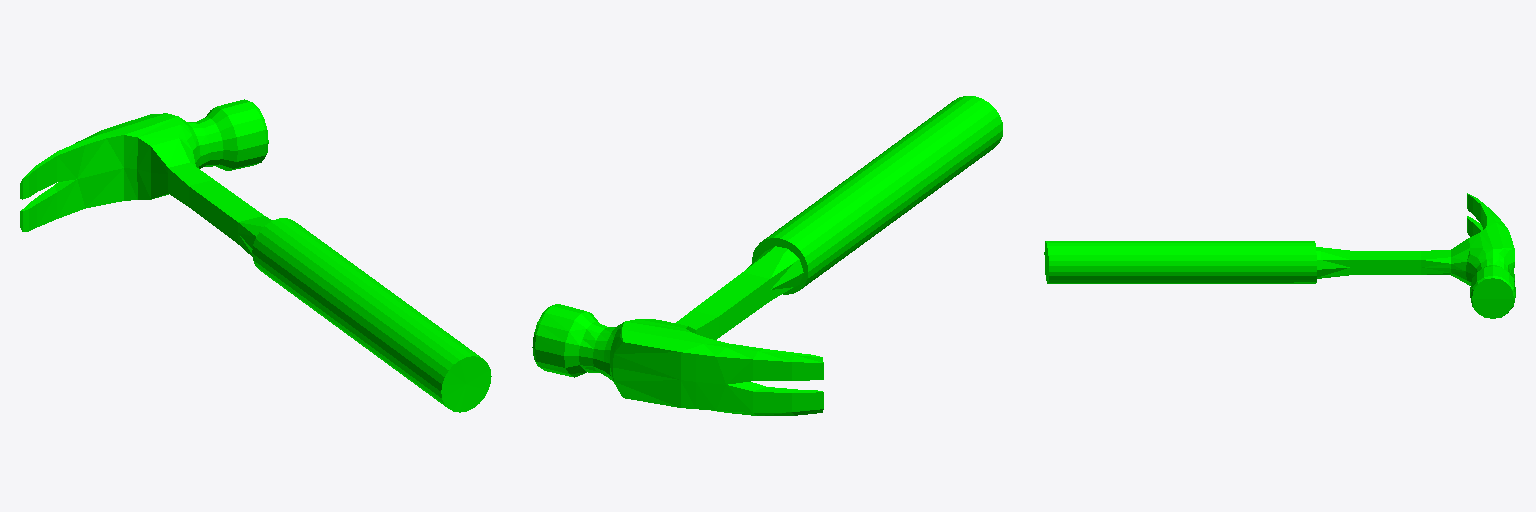
robot.urdf — block:

    <robot name="block">
      <link name="block_base_link">
        <inertial>
            <origin rpy="0 0 0" xyz="0 0 0"/>
            <mass value="0.1"/>
            <inertia ixx="0.1" ixy="0" ixz="0" iyy="0.1" iyz="0" izz="0.1"/>
        </inertial>
        
        <visual>
          <origin rpy="0 0 0" xyz="0 0 0"/>
          <geometry>
            <mesh filename="dataset/toolbox_cad/tn/plier/03_raw.obj" scale="1 1 1"/>
          </geometry>
            <material name="0_1_0_1">
                <color rgba="0 1 0 1"/>
            </material>
        </visual>

        
        <collision>
          <origin rpy="0 0 0" xyz="0 0 0"/>
          <geometry>
            <mesh filename="dataset/toolbox_cad/tn/plier/03_raw.obj" scale="1 1 1"/>
          </geometry>
            <material>
                <color rgba="0 1 0 1"/>
            </material>
        </collision>

      </link>
    </robot>

--- Facts derived from the render (not from the file) ---
3 views of the same robot in one strip: view 1: azimuth 30°, elevation 25°; view 2: azimuth 150°, elevation 25°; view 3: azimuth 270°, elevation 25° (orthographic).
Model block with 1 links and 0 joints (none), rooted at block_base_link, posed every joint at zero.
Links seen in each view (by area): view 1: block_base_link; view 2: block_base_link; view 3: block_base_link.
Link boxes in pixels (bbox=[...]): block_base_link: bbox=[20, 99, 491, 412]; block_base_link: bbox=[532, 96, 1002, 415]; block_base_link: bbox=[1044, 193, 1515, 318].
Size in the robot's own frame: 0.0875 by 0.2 by 0.022 metres.
Meshes: 1 distinct files referenced, 1 mesh visuals loaded (1 OBJ).
